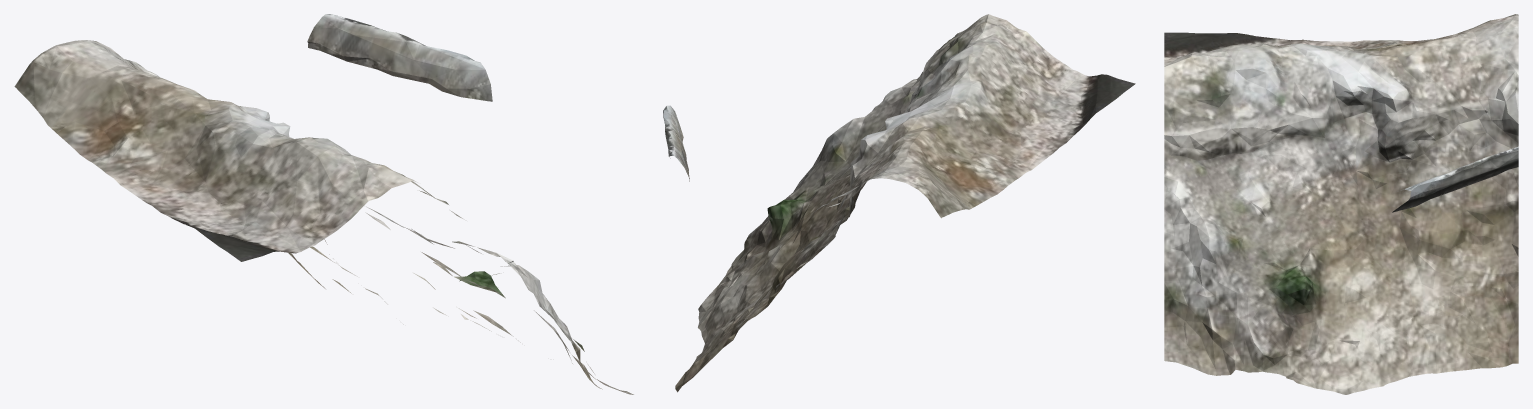
The picture shows the model from 3 angles, left to right: view 1: azimuth 30°, elevation 25°; view 2: azimuth 150°, elevation 25°; view 3: azimuth 270°, elevation 25°; orthographic projection. The views are drawn at different scales.
Size of the model in its own units: 2.95 by 2.29 by 2.95.
3 materials, 3 textured.
